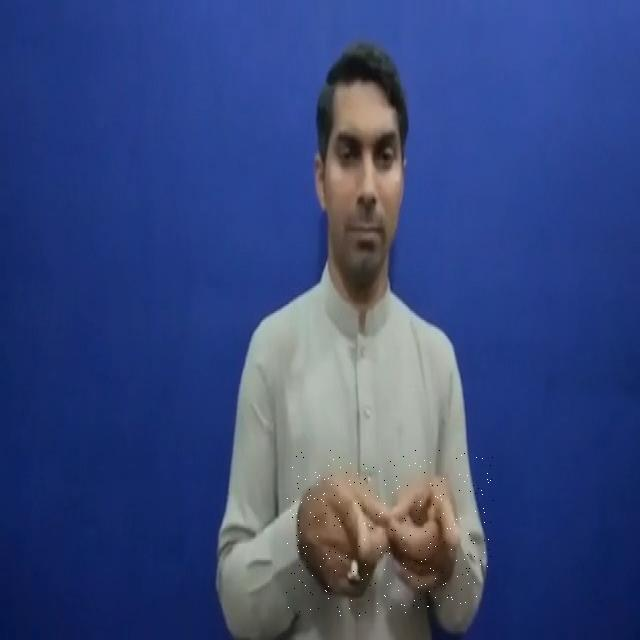sweet: (286, 450, 494, 617)
